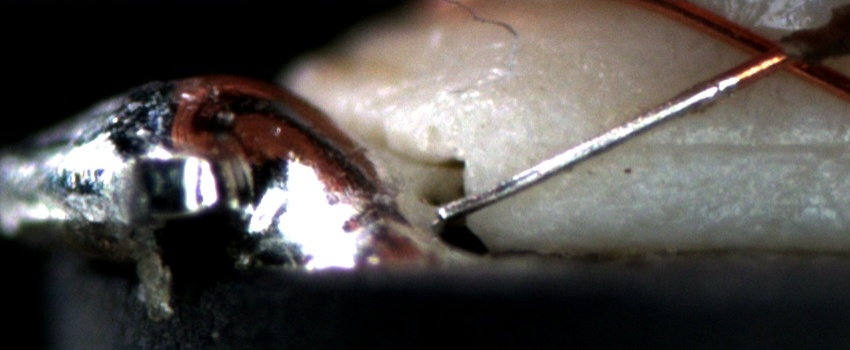CL: (724, 14, 824, 86)
DL: (645, 118, 850, 174)
TS: (437, 73, 738, 221)
